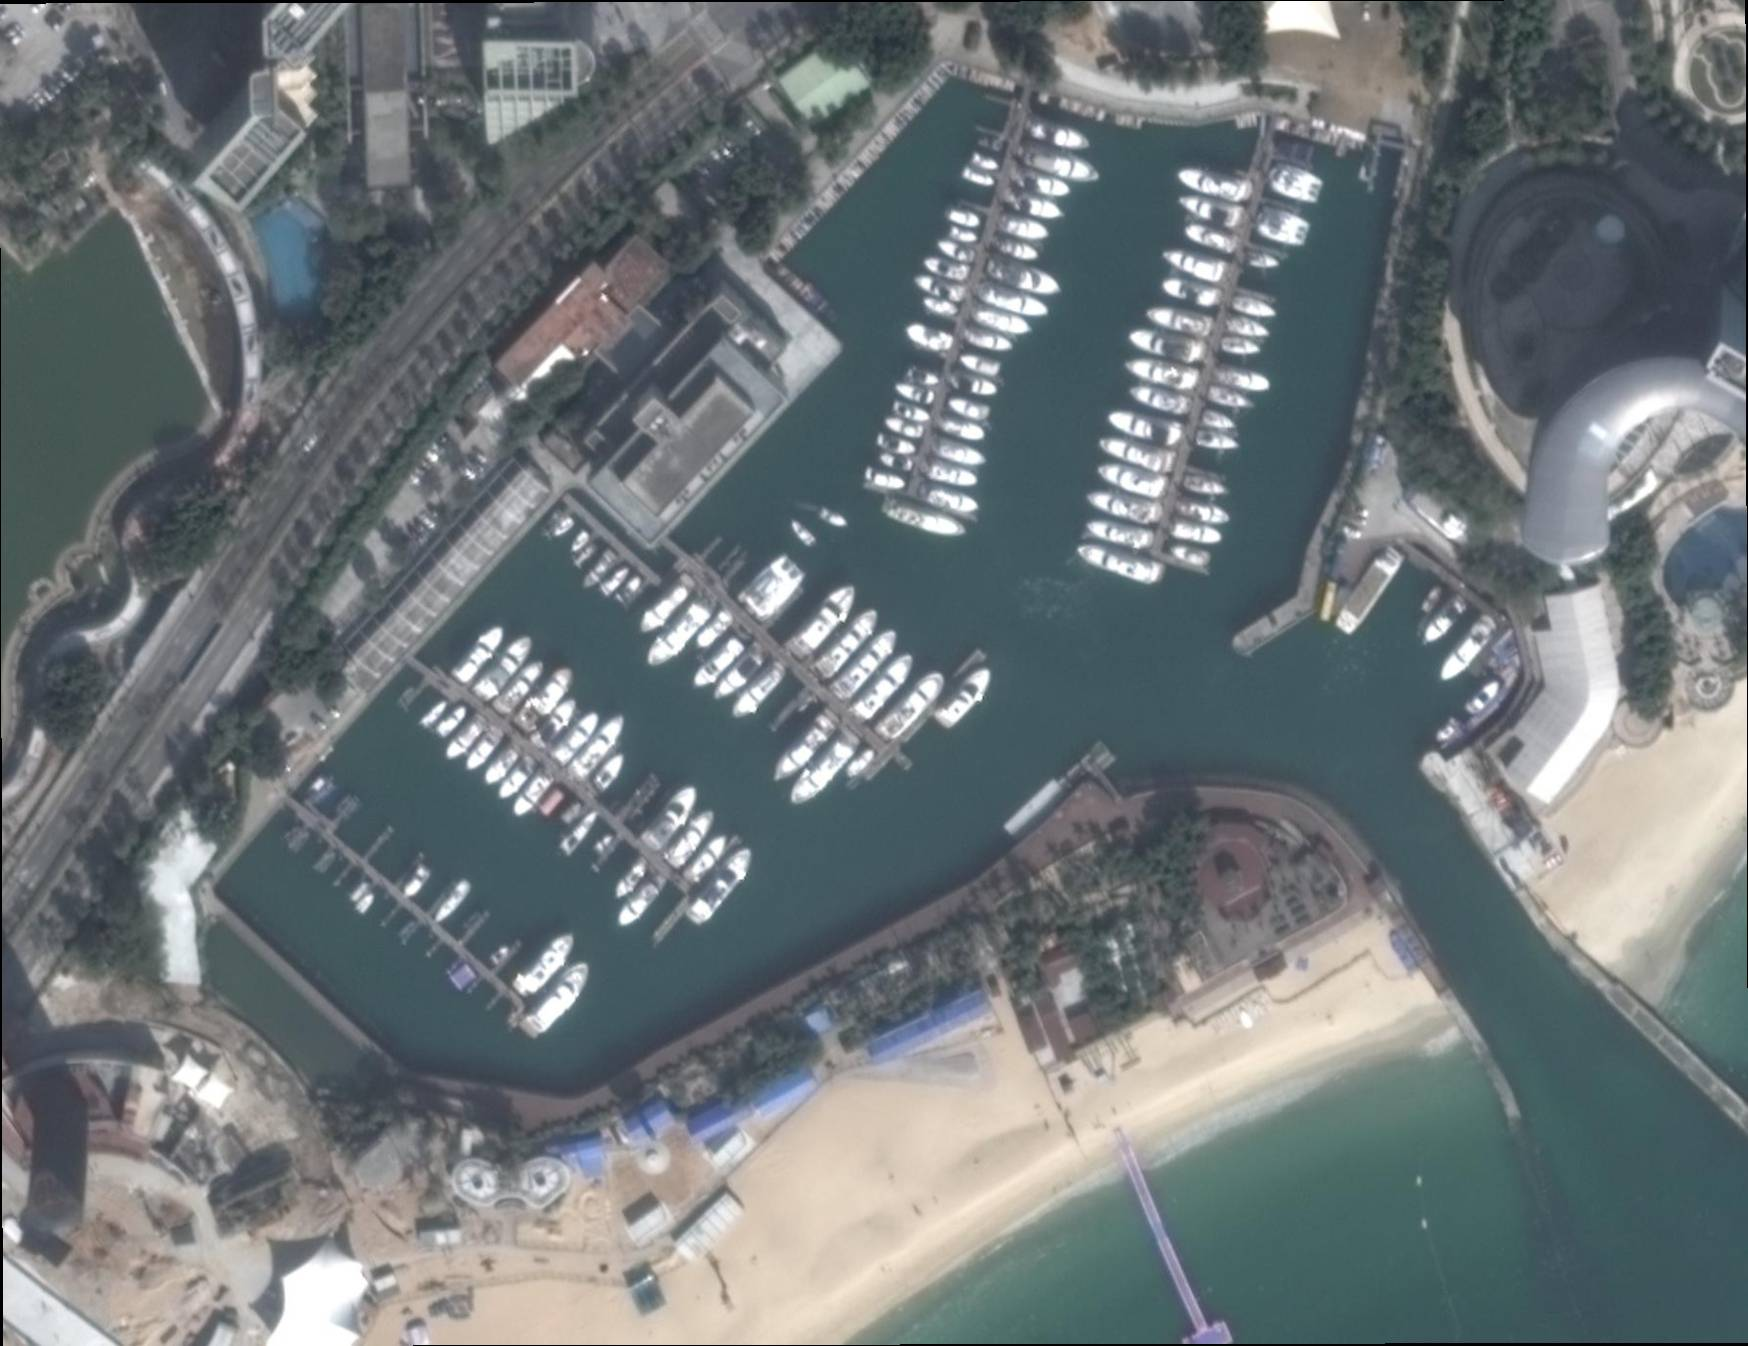harbor: (1102, 1120, 1235, 1345), (617, 772, 663, 826), (649, 894, 694, 944), (767, 686, 812, 734), (590, 833, 624, 874), (362, 826, 396, 864), (327, 796, 361, 834), (458, 911, 492, 946), (395, 853, 426, 891), (426, 881, 457, 918), (400, 676, 431, 710), (492, 942, 523, 976), (699, 534, 726, 561), (400, 919, 424, 947), (332, 861, 356, 888), (380, 901, 403, 929), (313, 845, 337, 871), (467, 976, 486, 995), (426, 939, 445, 959), (485, 993, 503, 1011)
ship: (781, 578, 863, 665), (1332, 544, 1407, 638), (515, 959, 595, 1042), (786, 725, 863, 812), (684, 843, 759, 929), (769, 706, 846, 788), (643, 592, 718, 674), (873, 667, 950, 745), (827, 625, 904, 703), (809, 605, 884, 684), (511, 927, 581, 1002), (509, 662, 580, 737), (470, 631, 539, 706), (636, 780, 706, 854), (1073, 536, 1165, 591), (849, 650, 918, 722), (566, 710, 632, 785), (1435, 612, 1502, 687), (1017, 137, 1105, 192), (932, 662, 1000, 732), (880, 495, 969, 543), (981, 252, 1065, 303), (727, 659, 789, 725), (636, 571, 697, 639), (710, 640, 772, 706), (660, 804, 720, 872), (450, 621, 509, 684), (977, 277, 1054, 327), (1085, 484, 1164, 530), (547, 707, 605, 771), (1127, 321, 1208, 366), (491, 656, 547, 720), (1106, 403, 1185, 448), (1097, 431, 1178, 475), (1177, 161, 1254, 205), (614, 870, 669, 930), (1096, 457, 1171, 501), (1124, 351, 1201, 393), (692, 635, 745, 693), (1264, 158, 1327, 208), (1083, 513, 1155, 556), (1252, 204, 1315, 252), (680, 831, 733, 889), (1177, 187, 1245, 230), (1163, 242, 1229, 286), (1024, 113, 1092, 156), (1146, 298, 1215, 339), (532, 696, 583, 751), (1421, 592, 1472, 648), (916, 478, 983, 519), (969, 303, 1035, 341), (1003, 187, 1066, 226), (1161, 271, 1225, 311), (511, 766, 556, 821), (494, 751, 539, 804), (1129, 380, 1194, 417), (444, 713, 489, 763), (462, 724, 505, 776), (923, 457, 983, 493), (1011, 165, 1072, 201), (931, 434, 989, 471), (1174, 495, 1232, 532), (559, 807, 602, 855), (1212, 361, 1271, 396), (996, 209, 1052, 246), (1182, 219, 1239, 256), (482, 739, 525, 788), (431, 878, 474, 926), (1170, 516, 1225, 551), (904, 318, 955, 356), (946, 368, 1001, 402), (1205, 382, 1260, 416), (588, 751, 629, 796), (1462, 677, 1508, 718), (921, 250, 974, 284), (912, 270, 967, 303), (936, 411, 989, 445), (990, 232, 1042, 266), (694, 609, 735, 652), (962, 325, 1017, 356), (614, 855, 651, 901), (581, 549, 618, 592), (1195, 427, 1243, 458), (1225, 312, 1271, 344), (1230, 293, 1278, 322), (1168, 539, 1213, 570), (861, 464, 908, 493), (1182, 472, 1230, 501), (946, 392, 990, 421), (434, 703, 470, 739), (957, 349, 1003, 378), (894, 379, 938, 407), (875, 430, 919, 458), (402, 864, 434, 901), (891, 397, 932, 426), (936, 236, 977, 264), (844, 745, 877, 780), (1219, 334, 1262, 361), (1199, 409, 1242, 435), (1243, 247, 1283, 276), (921, 293, 962, 320), (600, 564, 631, 599), (882, 414, 925, 440), (419, 698, 450, 730), (617, 573, 645, 607), (948, 204, 983, 230), (905, 365, 942, 390), (962, 165, 998, 189), (877, 451, 915, 474), (1433, 717, 1461, 745), (817, 506, 850, 529), (567, 529, 594, 556), (791, 517, 816, 546), (969, 153, 1003, 174), (949, 226, 980, 247), (552, 515, 576, 542), (354, 891, 378, 916), (489, 943, 512, 964), (349, 881, 372, 902)
storage tank: (1595, 213, 1626, 245)
